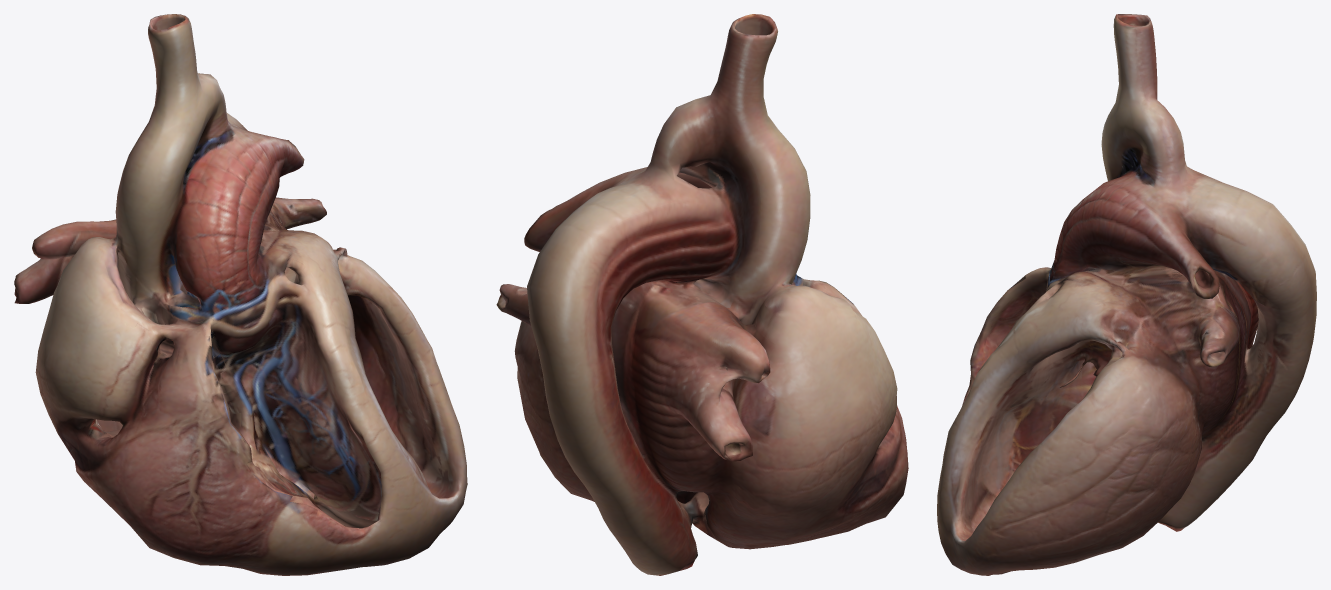
The model's file is heart.glb.
The picture shows the model from 3 angles, left to right: view 1: azimuth 30°, elevation 25°; view 2: azimuth 150°, elevation 25°; view 3: azimuth 270°, elevation 25°; orthographic projection. The views are drawn at different scales.
Parts seen in each view (by area): view 1: Mesh1_Mesh1.017; view 2: Mesh1_Mesh1.017; view 3: Mesh1_Mesh1.017.
Boxes of the visible parts, <box> form: Mesh1_Mesh1.017: <box>14,14,467,575</box>; Mesh1_Mesh1.017: <box>496,14,908,575</box>; Mesh1_Mesh1.017: <box>937,14,1316,575</box>.
Size of the model in its own units: 1.37 by 1.99 by 1.38.
1 material, 1 textured.
